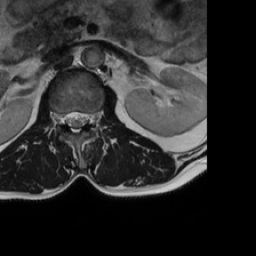CCS_normal: (73, 104, 80, 137)
LFS_normal: (88, 107, 97, 129)
LLS_normal: (80, 107, 88, 131)
RFS_normal: (57, 105, 65, 128)
RLS_normal: (65, 104, 73, 132)
